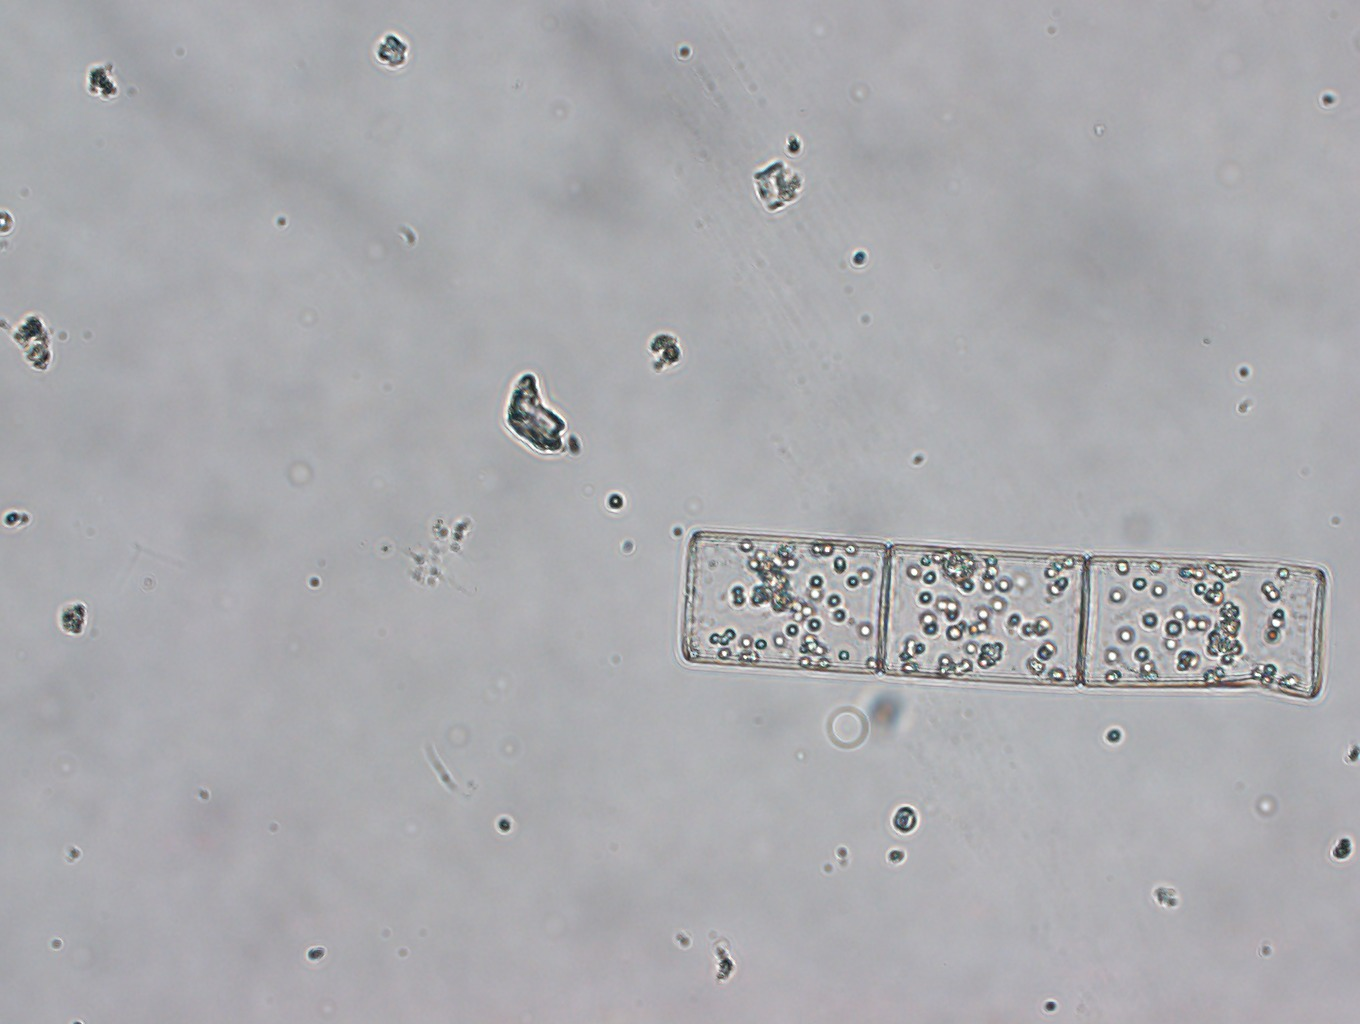guinardia flaccida: (677, 520, 1331, 711)
